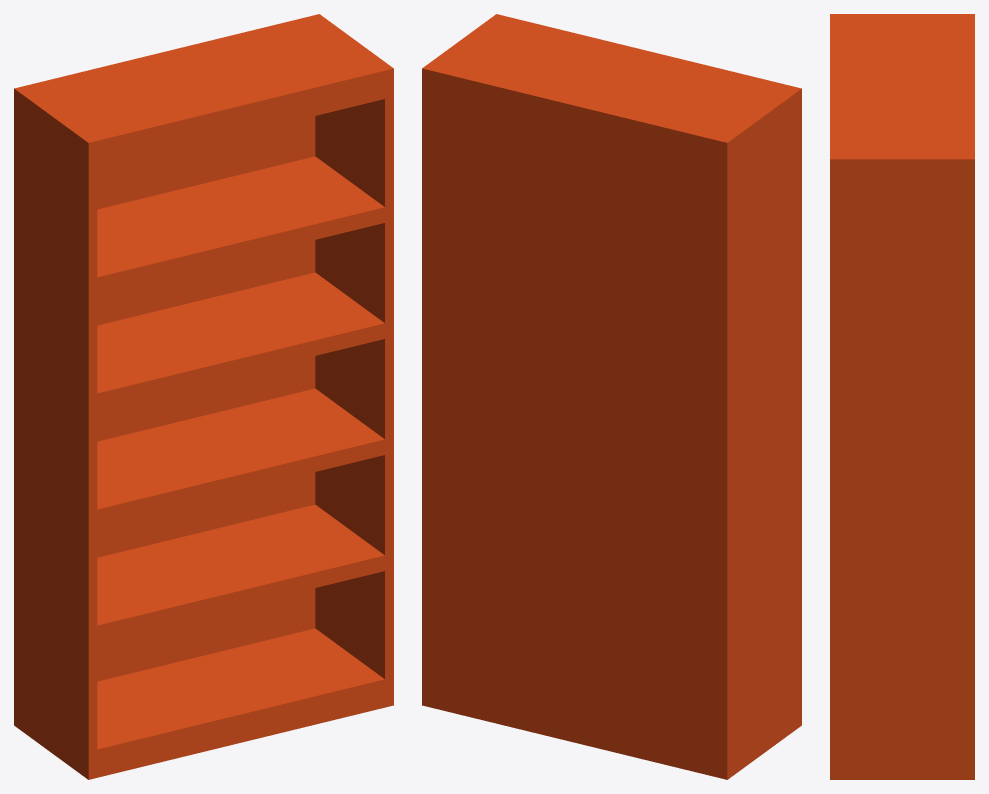
The model's file is Rak 2.fbx.
3 renders of one model, left to right at view 1: azimuth 30°, elevation 25°; view 2: azimuth 150°, elevation 25°; view 3: azimuth 270°, elevation 25°, orthographic. The views are drawn at different scales.
Parts seen in each view (by area): view 1: Cube.141; view 2: Cube.141; view 3: Cube.141.
Part boxes in pixels (box(x1,y1,x2,y2)): Cube.141: box(14, 14, 393, 779); Cube.141: box(422, 14, 801, 779); Cube.141: box(830, 14, 974, 779).
Bounding box in the file's own units: 143 × 286 × 60.54.
